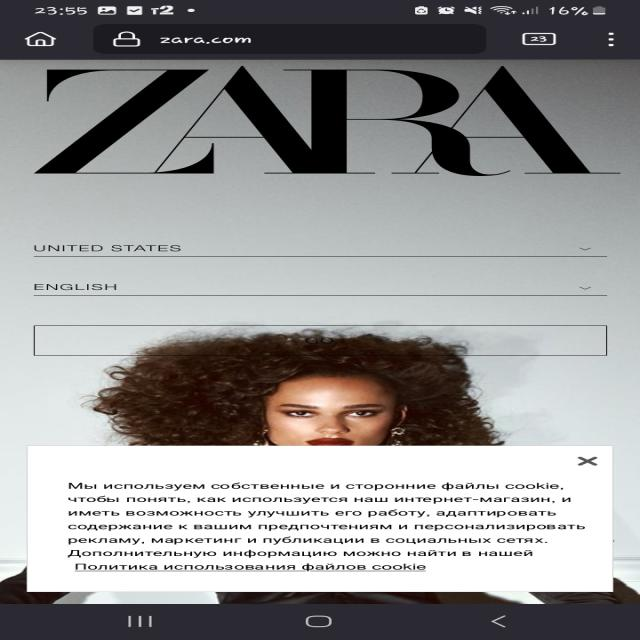button: (574, 455, 602, 469)
site: (31, 445, 613, 592)
